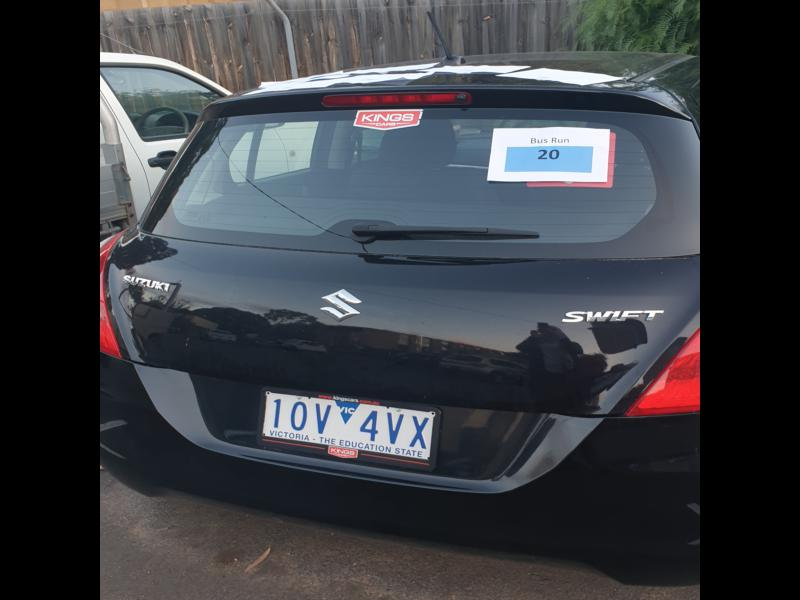BusRun: (504, 145, 594, 174)
PlateNo: (261, 386, 439, 461)
